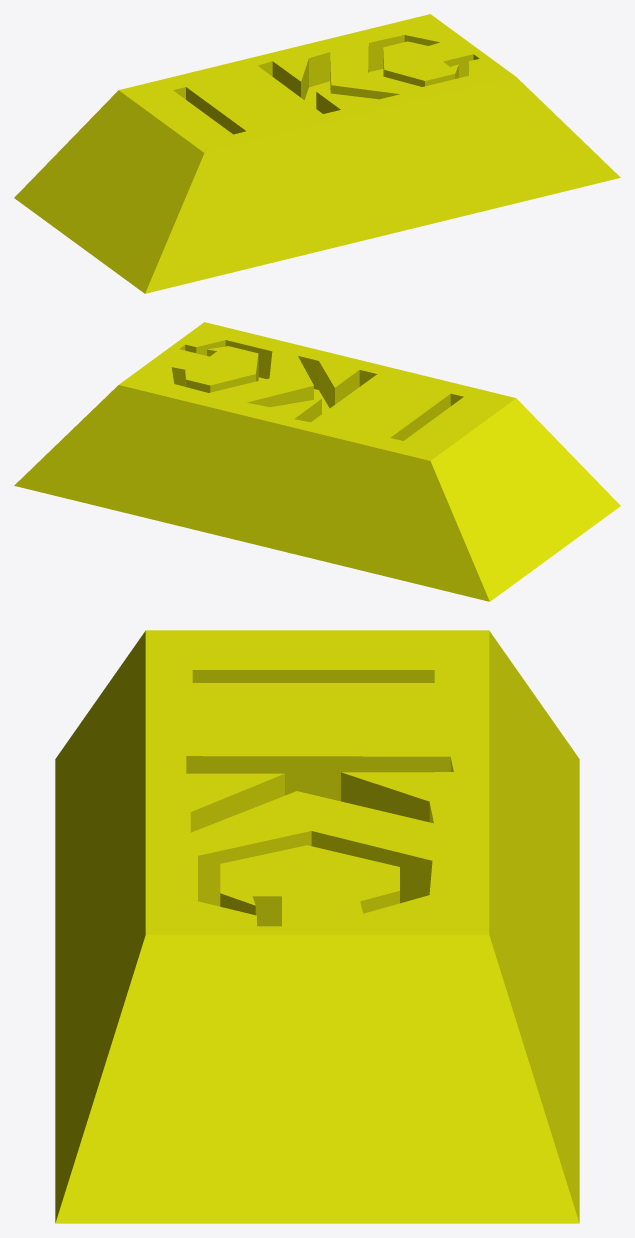
Rendered from Gold_Bar_1KG(Fixed).fbx.
3 renders of one model, top to bottom at view 1: azimuth 30°, elevation 25°; view 2: azimuth 150°, elevation 25°; view 3: azimuth 270°, elevation 25°, orthographic. The views are drawn at different scales.
Parts seen in each view (by area): view 1: Cube; view 2: Cube; view 3: Cube.
Boxes of the visible parts, <box> form: Cube: <box>14,14,620,293</box>; Cube: <box>14,322,620,601</box>; Cube: <box>55,630,579,1223</box>.
Bounding box in the file's own units: 45.81 × 9.6 × 21.85.
